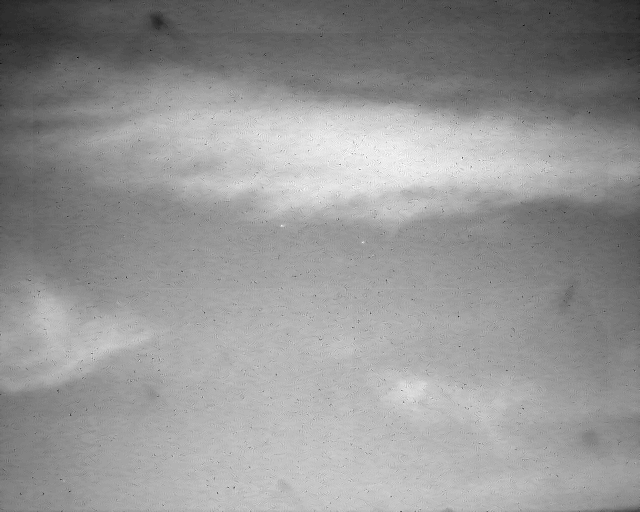Target: (362, 242, 366, 245), (281, 226, 286, 228)
